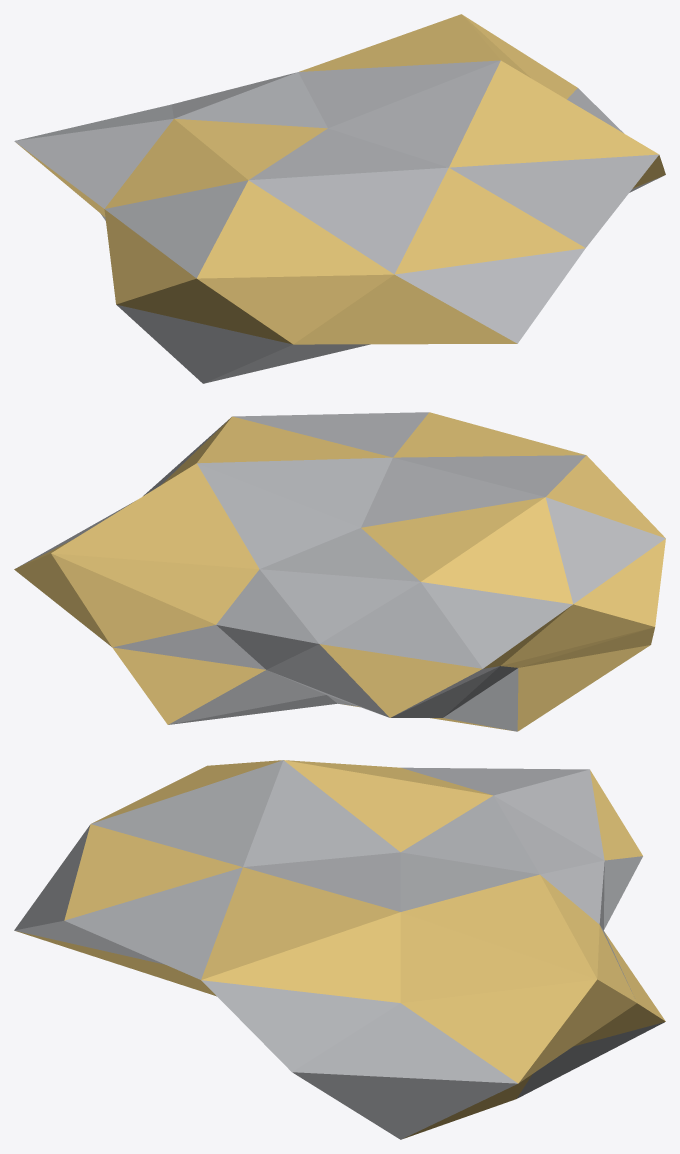
Rendered from debris.glb.
The picture shows the model from 3 angles, top to bottom: view 1: azimuth 30°, elevation 25°; view 2: azimuth 150°, elevation 25°; view 3: azimuth 270°, elevation 25°; orthographic projection. The views are drawn at different scales.
Visible parts, largest first — view 1: debris; view 2: debris; view 3: debris.
Part boxes in pixels (left/top/right/bottom): debris: left=14, top=14, right=665, bottom=383; debris: left=14, top=412, right=665, bottom=731; debris: left=14, top=760, right=665, bottom=1139.
Bounding box in the file's own units: 2 × 0.6779 × 1.95.
